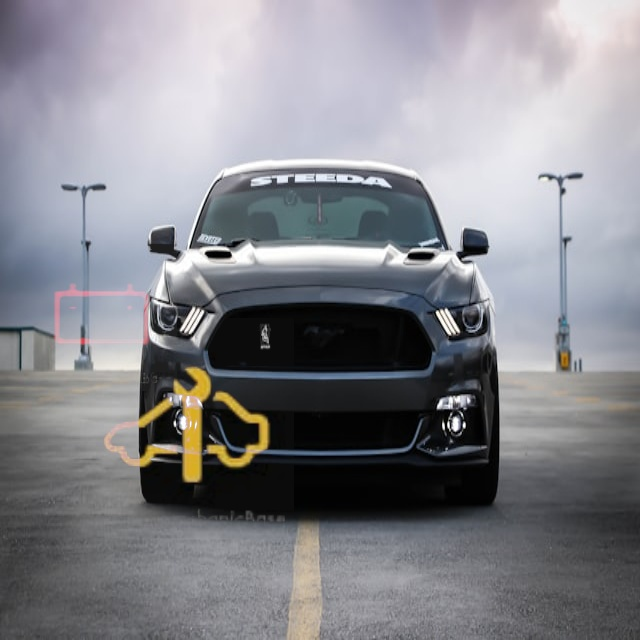symbol: (75, 318, 294, 537), (24, 238, 177, 391)
